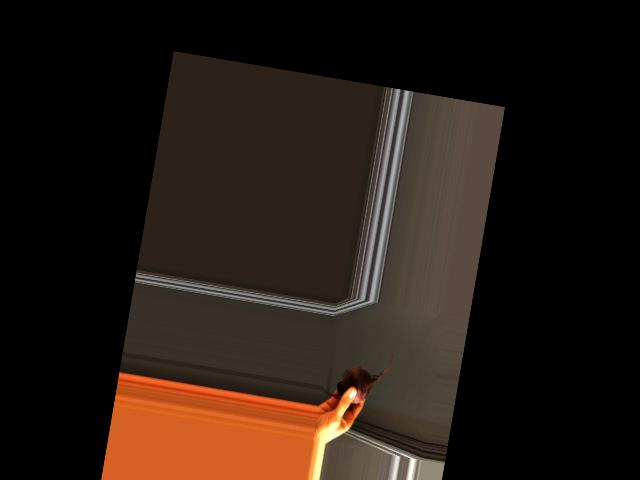beet: (319, 342, 393, 408)
